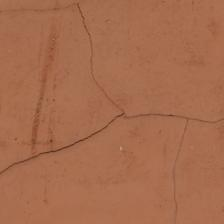Crack: (0, 10, 151, 190), (86, 0, 207, 145), (71, 33, 171, 63), (51, 59, 75, 157)
